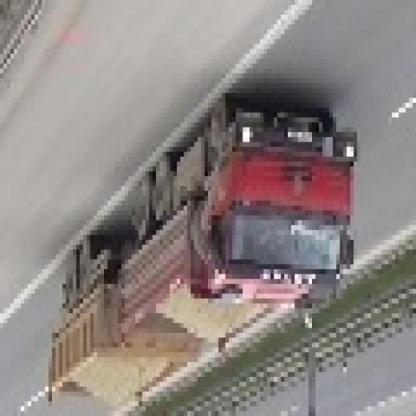truck: (53, 99, 359, 416)
